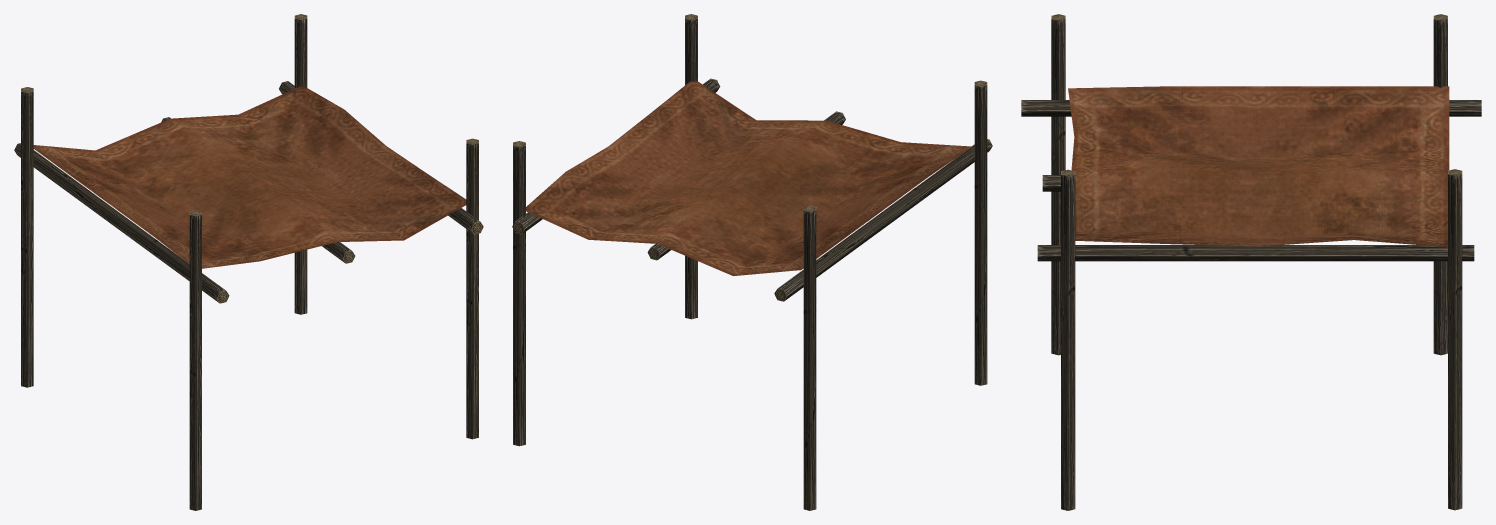
Rendered from Shed01_Build_001.FBX.
3 views of the same model, side by side, from view 1: azimuth 30°, elevation 25°; view 2: azimuth 150°, elevation 25°; view 3: azimuth 270°, elevation 25° (orthographic). The views are drawn at different scales.
Parts seen in each view (by area): view 1: Shed01_Build_001; view 2: Shed01_Build_001; view 3: Shed01_Build_001.
Boxes of the visible parts, x1,y1,x2,y2 form: Shed01_Build_001: [14, 14, 483, 510]; Shed01_Build_001: [512, 14, 992, 510]; Shed01_Build_001: [1021, 14, 1481, 510].
Bounding box in the file's own units: 192 × 184 × 230.
1 material, 1 textured.
